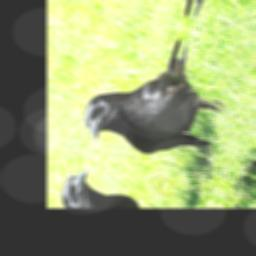Crow: (78, 11, 240, 188)
